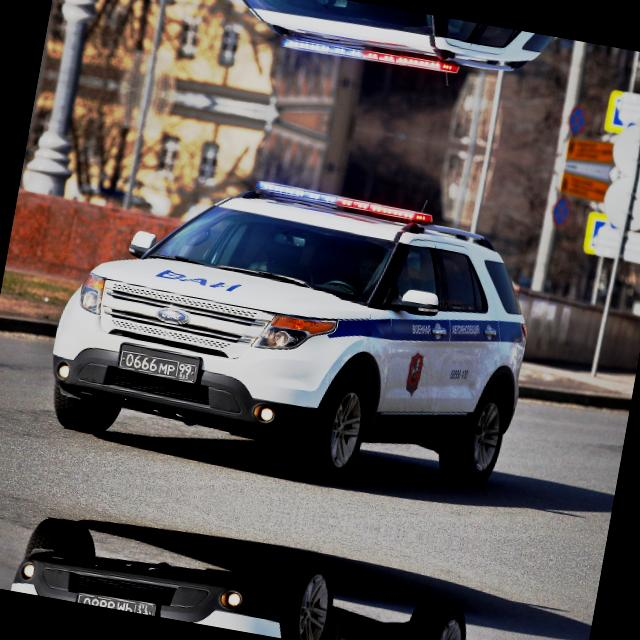military: (114, 344, 202, 386), (72, 586, 160, 616)
